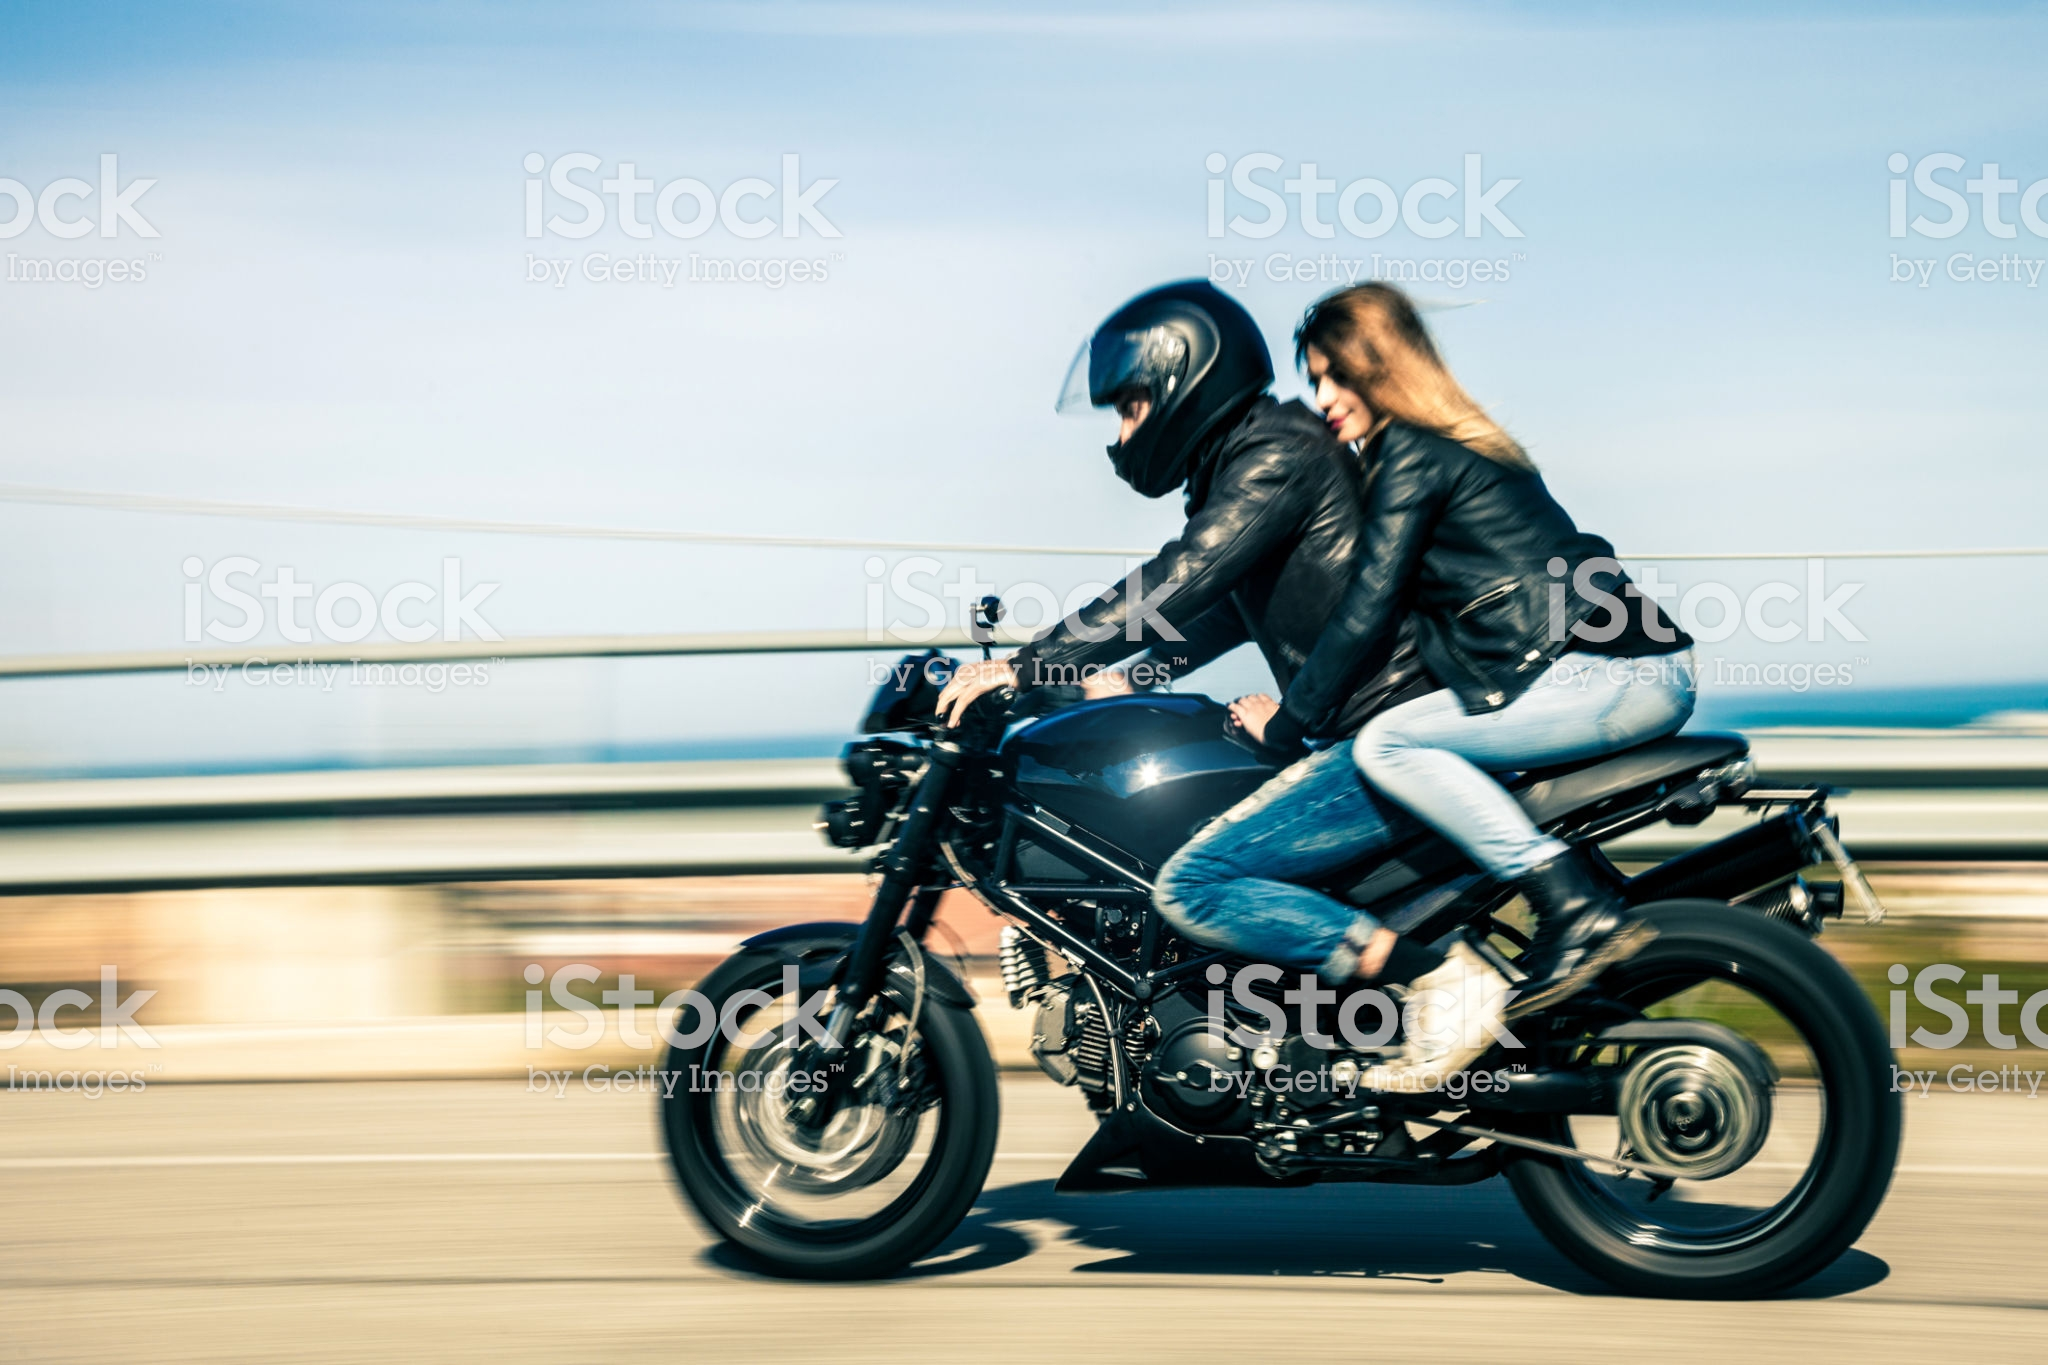helmet: (1051, 265, 1259, 492)
